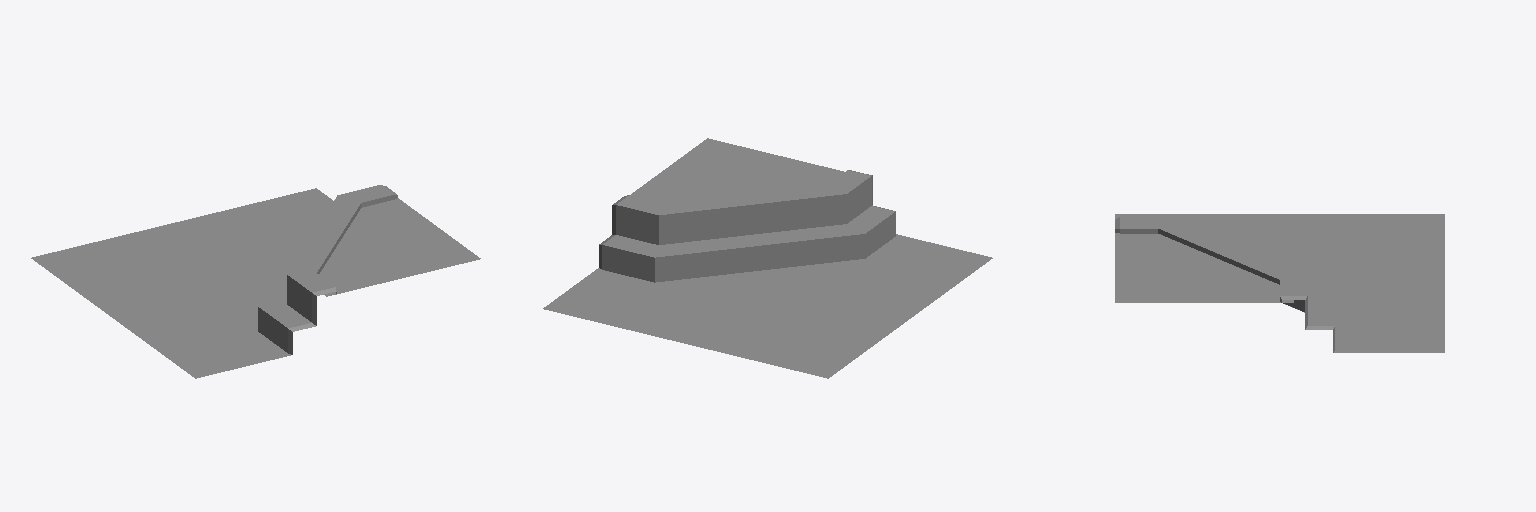
File: Sunken_Floor_Outside.obj
The picture shows the model from 3 angles: view 1: azimuth 30°, elevation 25°; view 2: azimuth 150°, elevation 25°; view 3: azimuth 270°, elevation 25°; orthographic projection.
Visible parts, largest first — view 1: Palette; view 2: Palette; view 3: Palette.
Boxes of the visible parts, x1=… form: Palette: x1=31, y1=185, x2=480, y2=378; Palette: x1=543, y1=138, x2=992, y2=378; Palette: x1=1115, y1=214, x2=1444, y2=352.
Size of the model in its own units: 6 by 1.1 by 6.